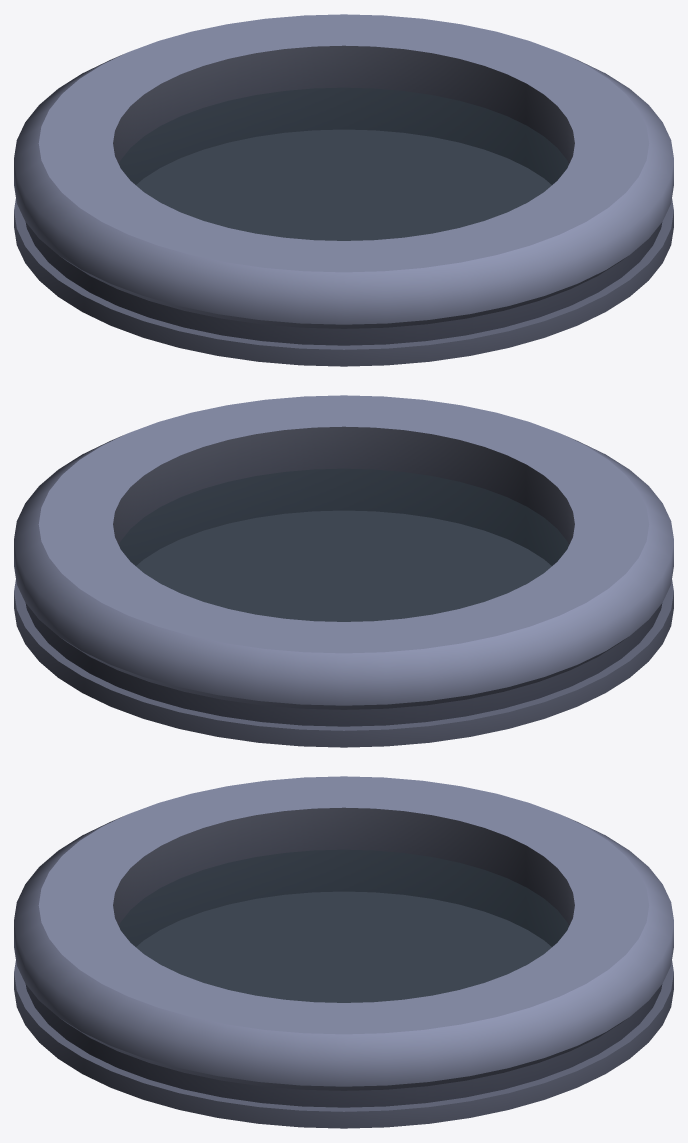
The model's file is fountain.glb.
3 renders of one model, top to bottom at view 1: azimuth 30°, elevation 25°; view 2: azimuth 150°, elevation 25°; view 3: azimuth 270°, elevation 25°, orthographic.
Parts seen in each view (by area): view 1: fountain-round, (%ignore); view 2: fountain-round, (%ignore); view 3: fountain-round, (%ignore).
Boxes of the visible parts, bbox=[...] form: fountain-round: bbox=[14, 14, 673, 366]; (%ignore): bbox=[119, 87, 568, 240]; fountain-round: bbox=[14, 395, 673, 747]; (%ignore): bbox=[119, 468, 568, 621]; fountain-round: bbox=[14, 776, 673, 1128]; (%ignore): bbox=[119, 849, 568, 1002].
Size of the model in its own units: 2 by 0.28 by 2.
Materials: 2 (1 with a texture image).
